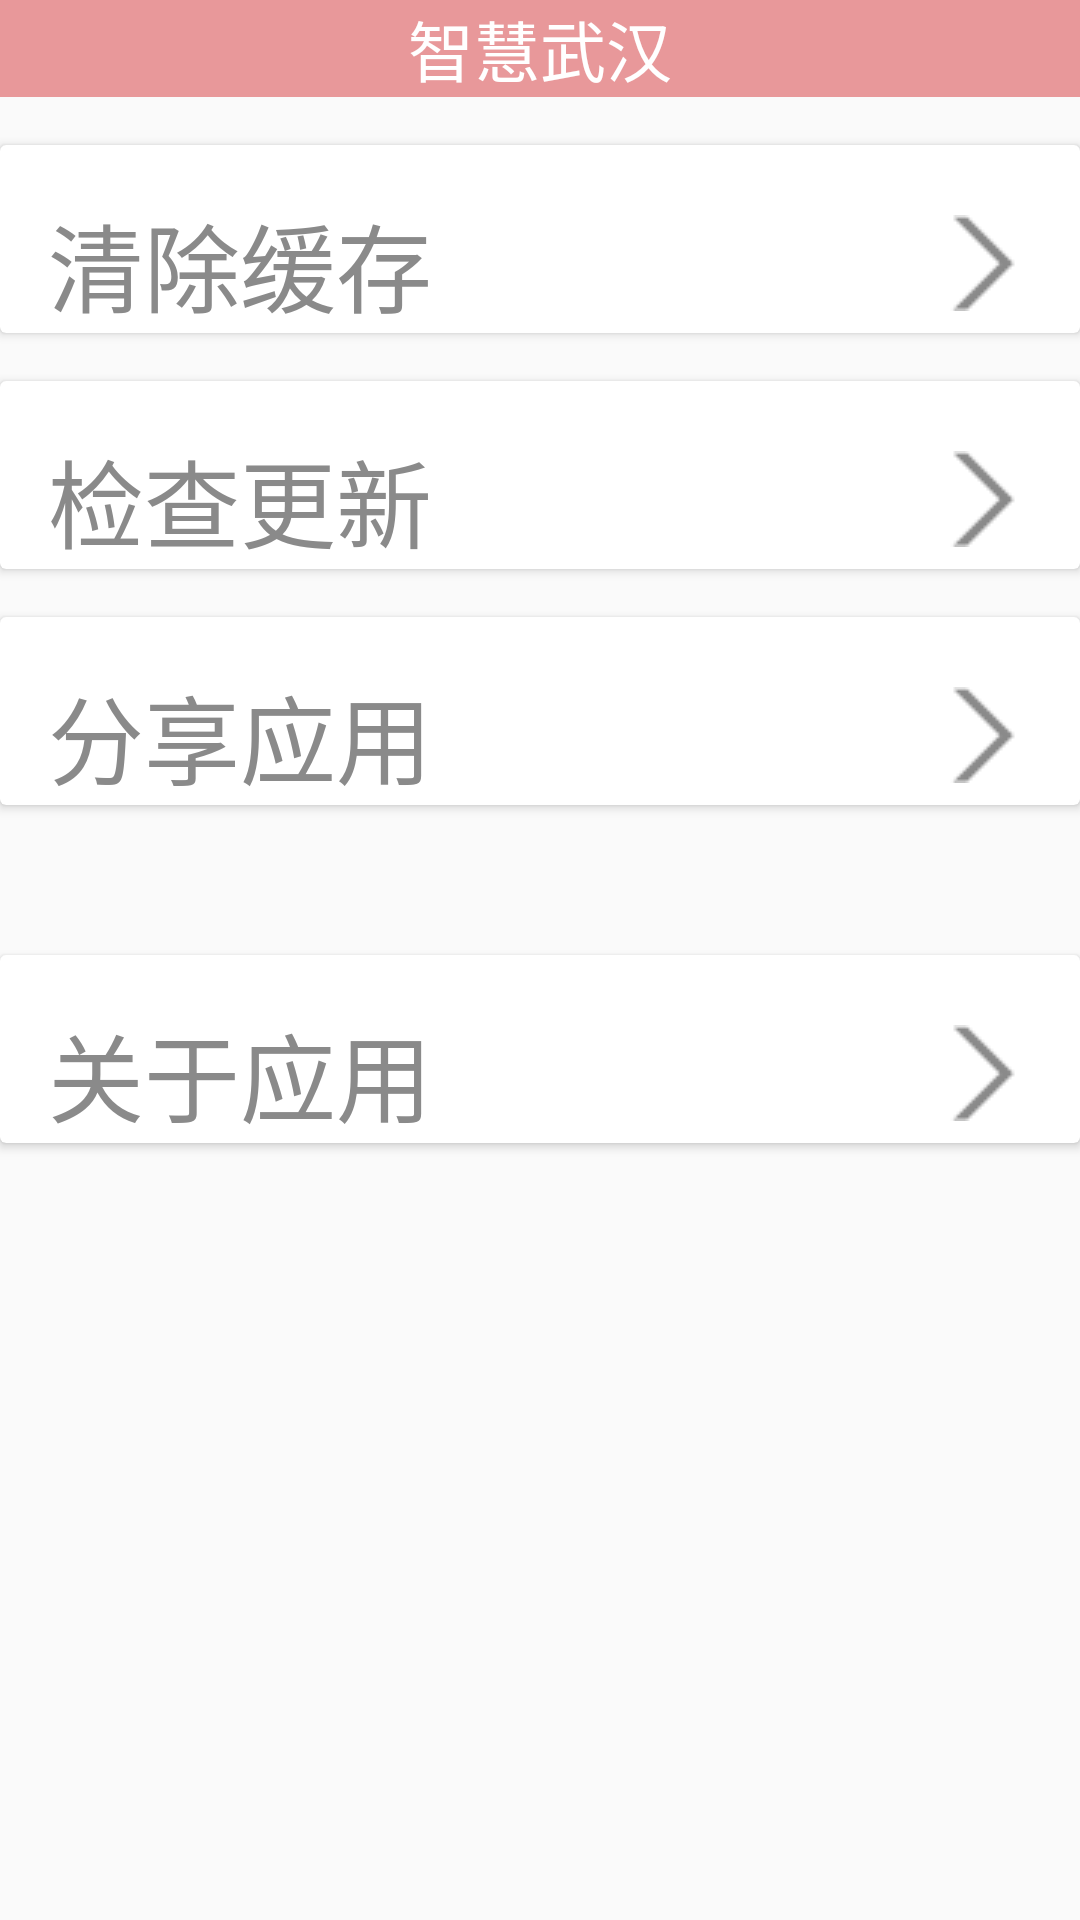

Screen size 1080*1920. Icon name, then its center in pixels as (x=x, y=y):
next: (x=983, y=263), (x=983, y=499), (x=983, y=735), (x=984, y=1073)
